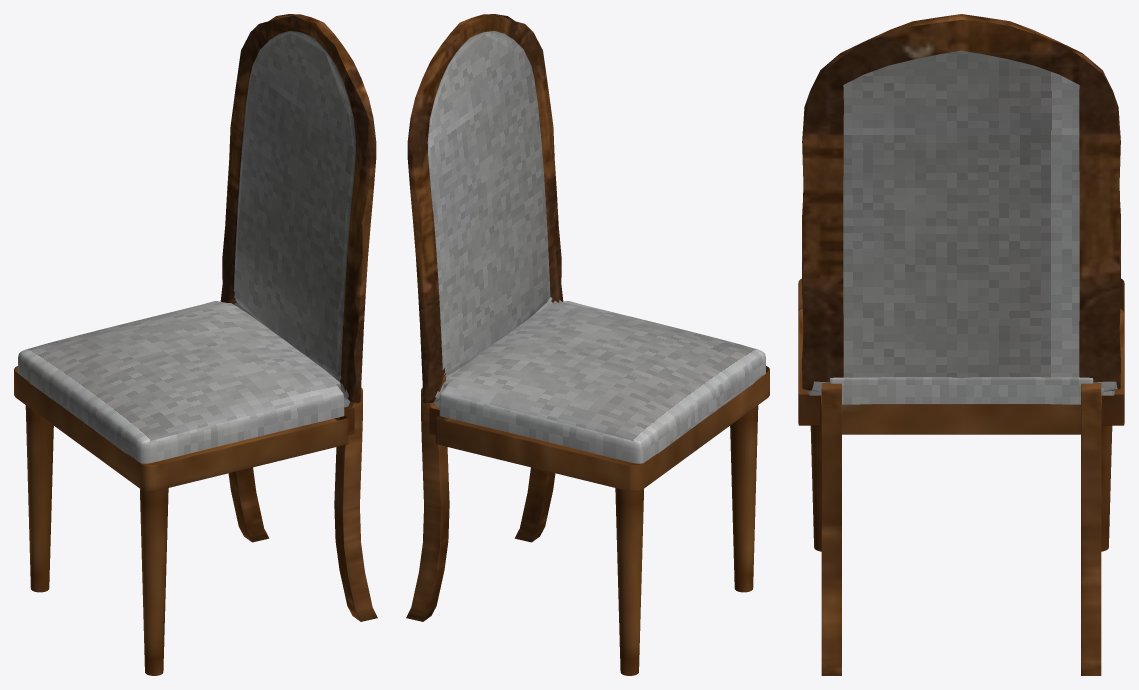
File: chairb.glb
3 renders of one model, left to right at view 1: azimuth 30°, elevation 25°; view 2: azimuth 150°, elevation 25°; view 3: azimuth 270°, elevation 25°, orthographic. The views are drawn at different scales.
Parts seen in each view (by area): view 1: spinka_low, sid_low, sidded_low, soedkrug_low, zadnoga_low; view 2: spinka_low, sid_low, sidded_low, soedkrug_low, zadnoga_low; view 3: spinka_low, zadnoga_low, sidded_low, sid_low, soedkrug_low.
Boxes of the visible parts, x1,y1,x2,y2 form: spinka_low: (220, 14, 376, 403); sid_low: (18, 301, 349, 463); sidded_low: (14, 366, 354, 491); soedkrug_low: (25, 405, 168, 675); zadnoga_low: (228, 388, 377, 621); spinka_low: (407, 14, 563, 403); sid_low: (434, 301, 765, 463); sidded_low: (429, 366, 769, 491); soedkrug_low: (615, 405, 758, 675); zadnoga_low: (406, 388, 555, 621); spinka_low: (802, 14, 1120, 392); zadnoga_low: (821, 383, 1101, 675); sidded_low: (798, 278, 1124, 434); sid_low: (808, 377, 1114, 404); soedkrug_low: (810, 425, 1112, 551).
Size of the model in its own units: 28.33 by 60.85 by 27.2.
Materials: 2 (2 with a texture image).
